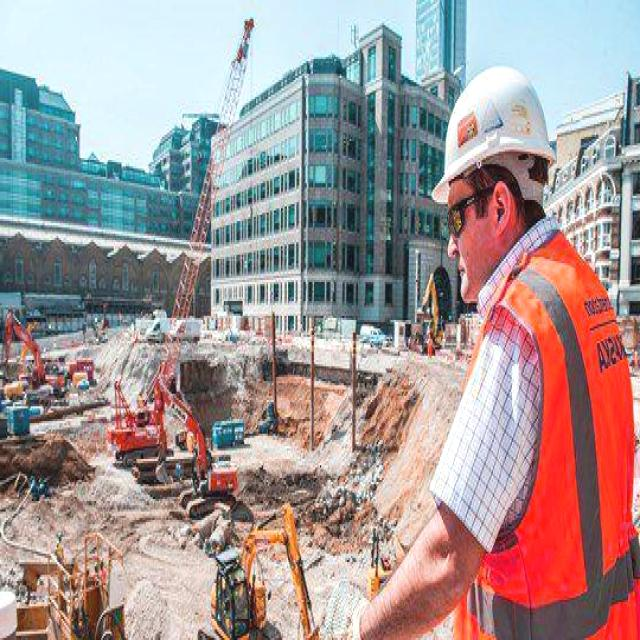face_nomask: (438, 158, 488, 316)
glasses: (444, 199, 472, 241)
head_helmet: (425, 37, 553, 182)
person: (431, 76, 640, 640)
vest: (458, 242, 638, 640)
